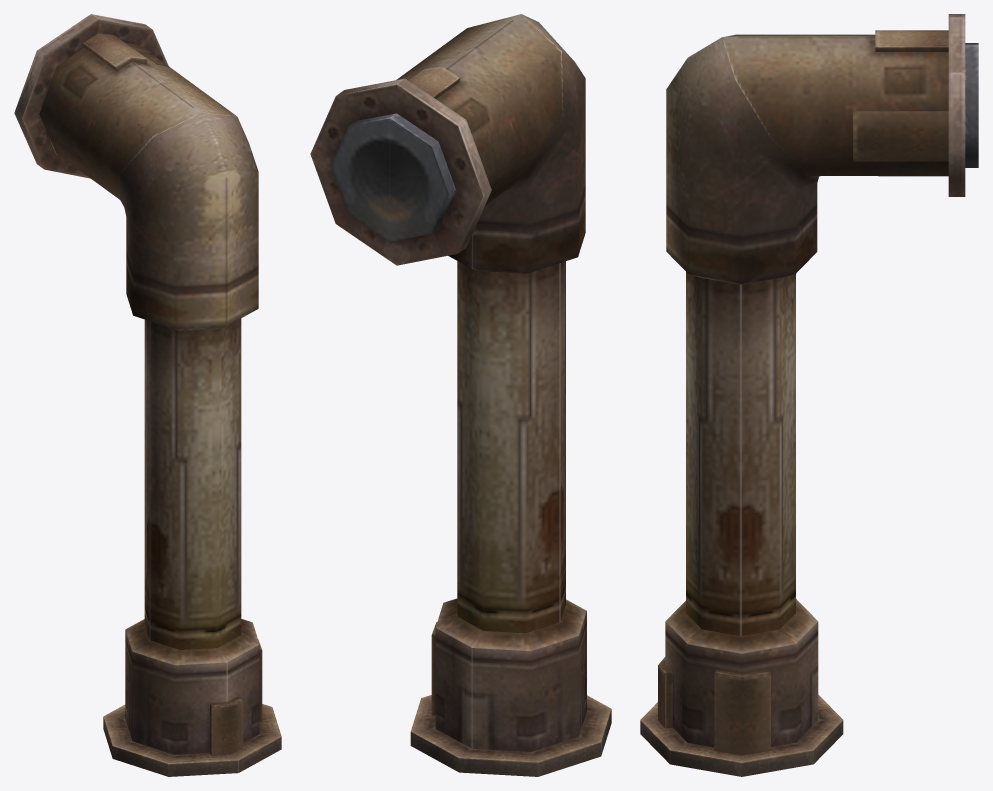
Rendered from yw_leinabao_guandao02.FBX.
3 views of the same model, side by side, from view 1: azimuth 30°, elevation 25°; view 2: azimuth 150°, elevation 25°; view 3: azimuth 270°, elevation 25° (orthographic). The views are drawn at different scales.
Parts seen in each view (by area): view 1: yw_leinabao_guandao02; view 2: yw_leinabao_guandao02; view 3: yw_leinabao_guandao02.
Boxes of the visible parts, x1,y1,x2,y2 form: yw_leinabao_guandao02: [14, 14, 281, 776]; yw_leinabao_guandao02: [310, 14, 611, 776]; yw_leinabao_guandao02: [640, 14, 978, 776].
Size of the model in its own units: 316 by 1228 by 526.
